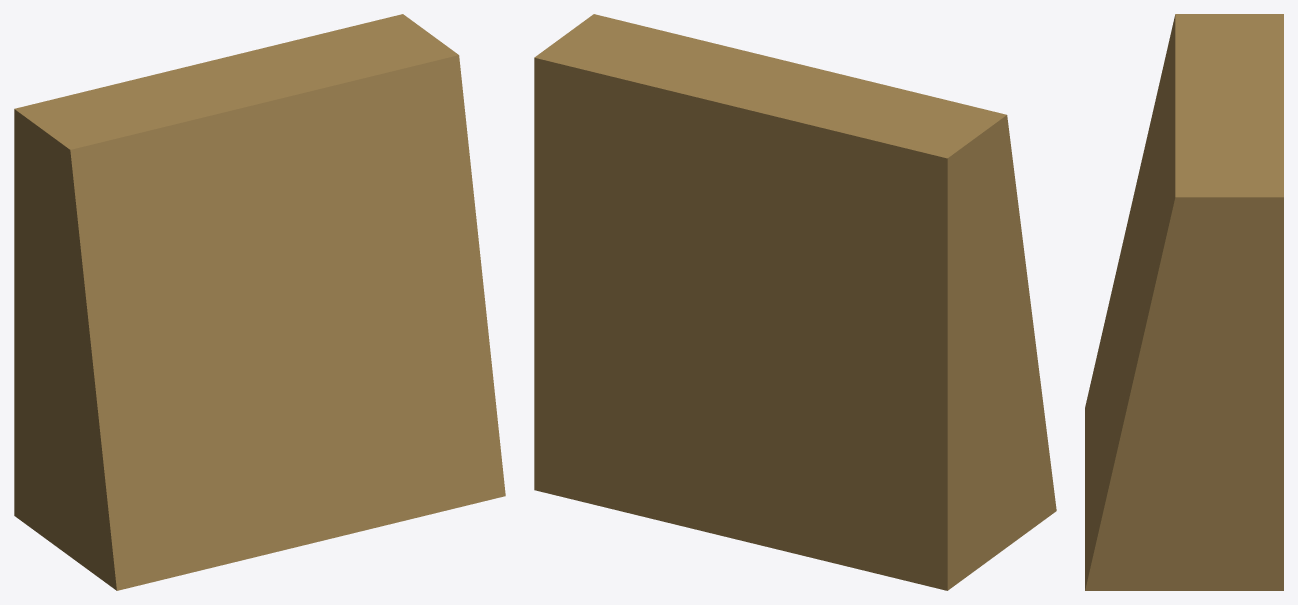
Rendered from Terrain_Tile_Dirt_Cliff_Face_Angled_02.fbx.
The picture shows the model from 3 angles, left to right: view 1: azimuth 30°, elevation 25°; view 2: azimuth 150°, elevation 25°; view 3: azimuth 270°, elevation 25°; orthographic projection. The views are drawn at different scales.
Visible parts, largest first — view 1: Model; view 2: Model; view 3: Model.
Boxes of the visible parts, x1,y1,x2,y2 form: Model: (14, 14, 505, 590); Model: (534, 14, 1056, 590); Model: (1085, 14, 1283, 590).
Bounding box in the file's own units: 2000 × 2000 × 916.
